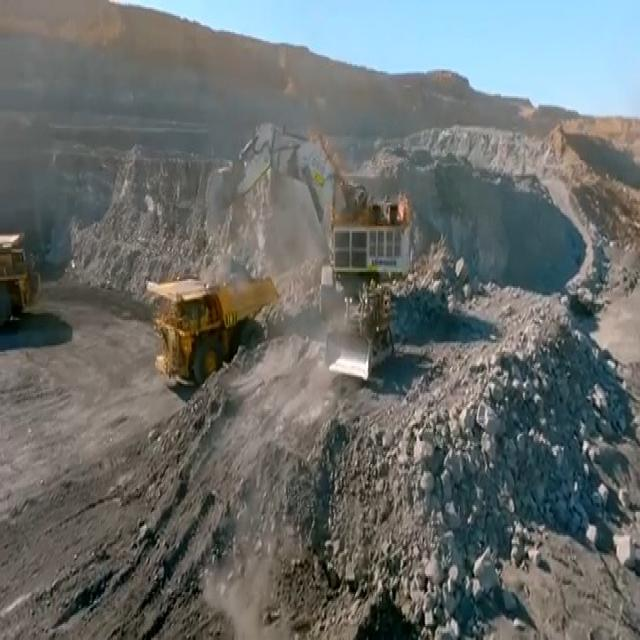dump_truck: (146, 277, 272, 349)
excavator: (194, 124, 412, 275)
